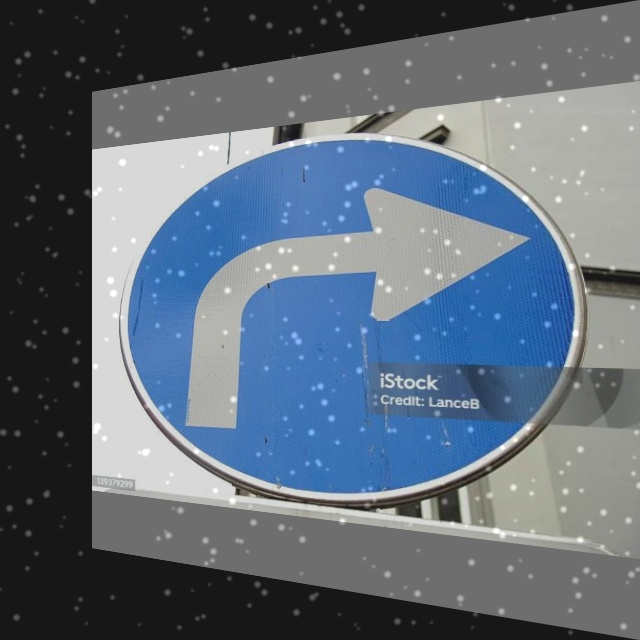Compulsory_Turn_Right_Ahead: (128, 109, 567, 511)
